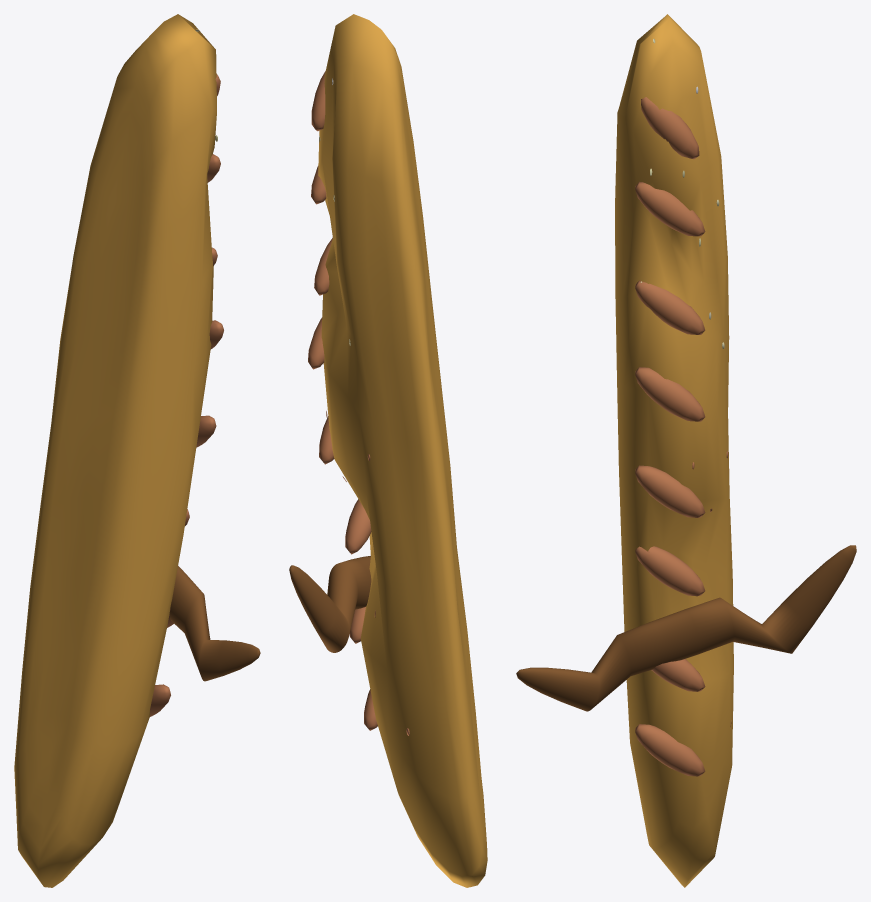
The model's file is bagatte_bread frency.fbx.
3 renders of one model, left to right at view 1: azimuth 30°, elevation 25°; view 2: azimuth 150°, elevation 25°; view 3: azimuth 270°, elevation 25°, orthographic. The views are drawn at different scales.
Visible parts, largest first — view 1: Sphere.008; view 2: Sphere.008; view 3: Sphere.008.
Boxes of the visible parts, x1,y1,x2,y2 form: Sphere.008: [14, 14, 260, 887]; Sphere.008: [289, 14, 487, 887]; Sphere.008: [516, 14, 856, 887].
Bounding box in the file's own units: 33.74 × 151 × 49.91.
